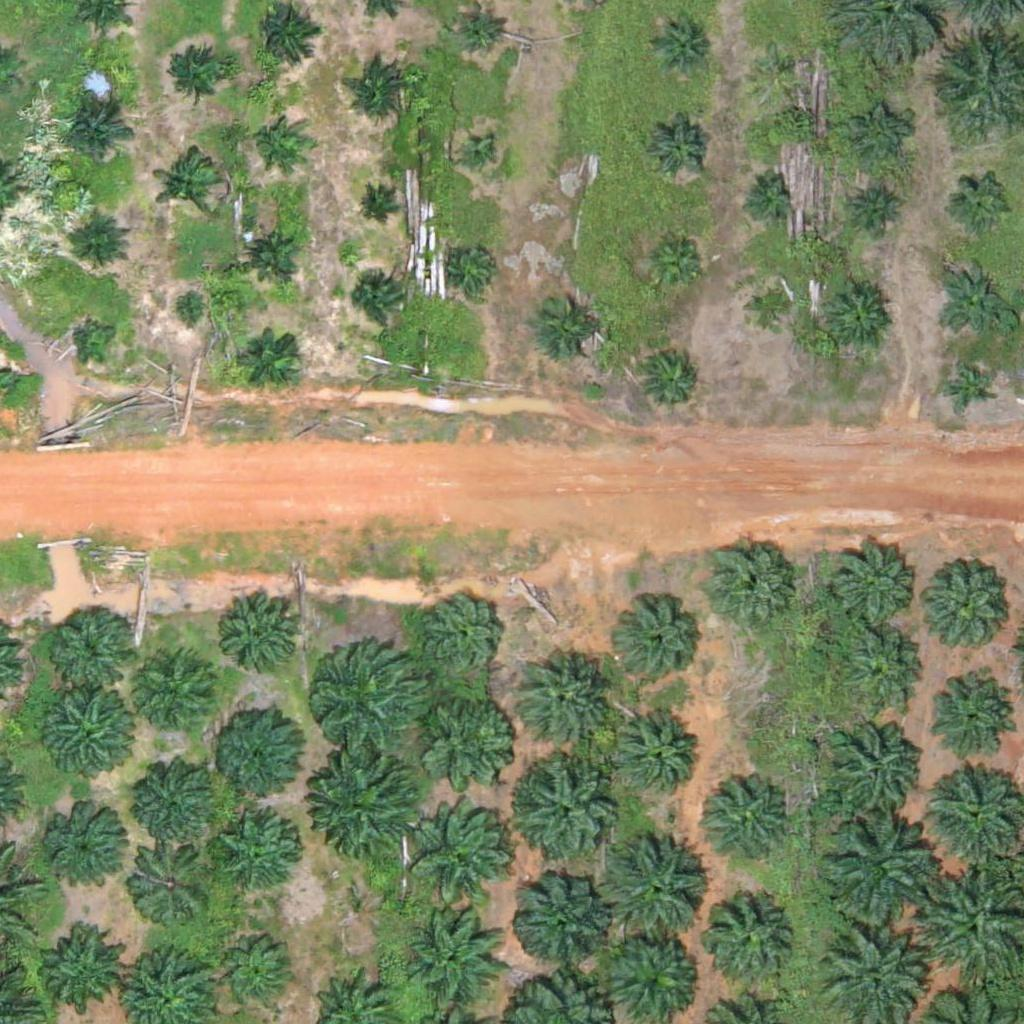Kelapa_Sawit: (307, 637, 432, 763), (820, 814, 932, 928), (595, 830, 707, 943), (512, 758, 624, 871), (915, 554, 1015, 655), (691, 774, 791, 875), (514, 650, 614, 751), (401, 907, 501, 1008), (416, 804, 516, 905), (319, 755, 419, 856), (824, 717, 924, 817), (700, 889, 800, 989), (510, 870, 610, 970), (420, 682, 520, 782), (922, 670, 1010, 758), (704, 539, 792, 627), (607, 710, 695, 798), (41, 694, 129, 782), (46, 809, 134, 897), (34, 921, 122, 1009), (212, 710, 299, 799), (44, 602, 131, 690), (131, 756, 218, 844), (842, 625, 929, 713), (830, 542, 917, 630), (617, 599, 704, 687), (126, 837, 213, 925), (134, 648, 221, 736), (220, 591, 307, 679), (217, 818, 304, 906), (421, 595, 508, 683), (160, 47, 235, 123), (531, 289, 606, 365), (152, 149, 227, 225), (61, 98, 136, 173), (222, 934, 297, 1009), (820, 279, 895, 354), (936, 261, 1011, 336), (242, 326, 305, 389), (69, 216, 132, 279), (241, 221, 304, 284), (648, 12, 711, 75), (648, 117, 711, 180), (641, 349, 704, 412), (641, 231, 704, 294), (351, 58, 413, 121), (254, 4, 317, 66), (848, 104, 910, 167), (952, 173, 1014, 236), (854, 182, 904, 233), (943, 362, 993, 413), (751, 39, 801, 90), (741, 168, 791, 219), (74, 314, 124, 365), (250, 113, 300, 163), (351, 276, 401, 326), (451, 243, 501, 293), (745, 284, 795, 334), (453, 2, 503, 52), (460, 138, 498, 176), (169, 292, 207, 330), (355, 189, 392, 227)
